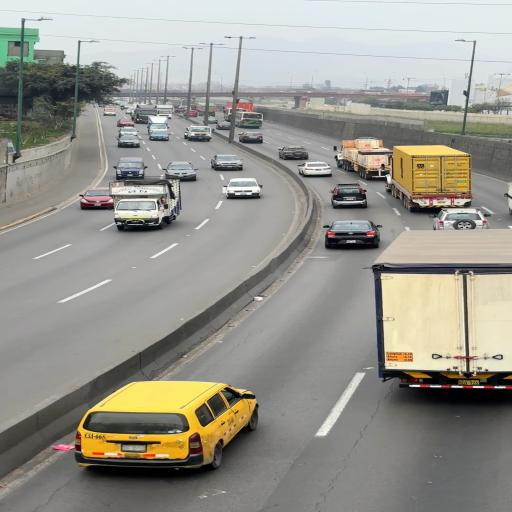auto: (74, 380, 258, 469), (322, 220, 379, 247), (430, 208, 490, 230), (327, 183, 366, 208), (221, 177, 262, 199), (78, 188, 114, 209), (162, 161, 198, 182), (296, 161, 332, 177), (210, 154, 243, 171), (183, 125, 214, 142), (278, 146, 310, 160), (238, 131, 264, 143), (117, 119, 135, 127)
bus: (377, 238, 512, 402), (396, 148, 474, 207), (108, 180, 180, 230), (338, 137, 382, 171), (341, 138, 384, 151)
